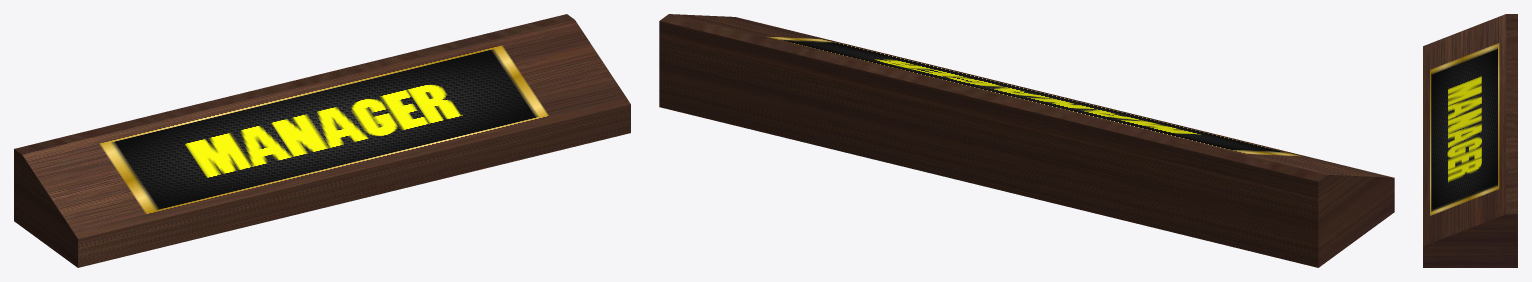
File: Desk Name Plate.fbx
3 views of the same model, side by side, from view 1: azimuth 30°, elevation 25°; view 2: azimuth 150°, elevation 25°; view 3: azimuth 270°, elevation 25° (orthographic). The views are drawn at different scales.
Parts seen in each view (by area): view 1: Cube; view 2: Cube; view 3: Cube.
Part boxes in pixels (x1,y1,x2,y2): Cube: (14,14,630,267); Cube: (659,14,1394,267); Cube: (1423,14,1517,267).
Bounding box in the file's own units: 1000 × 125 × 200.
